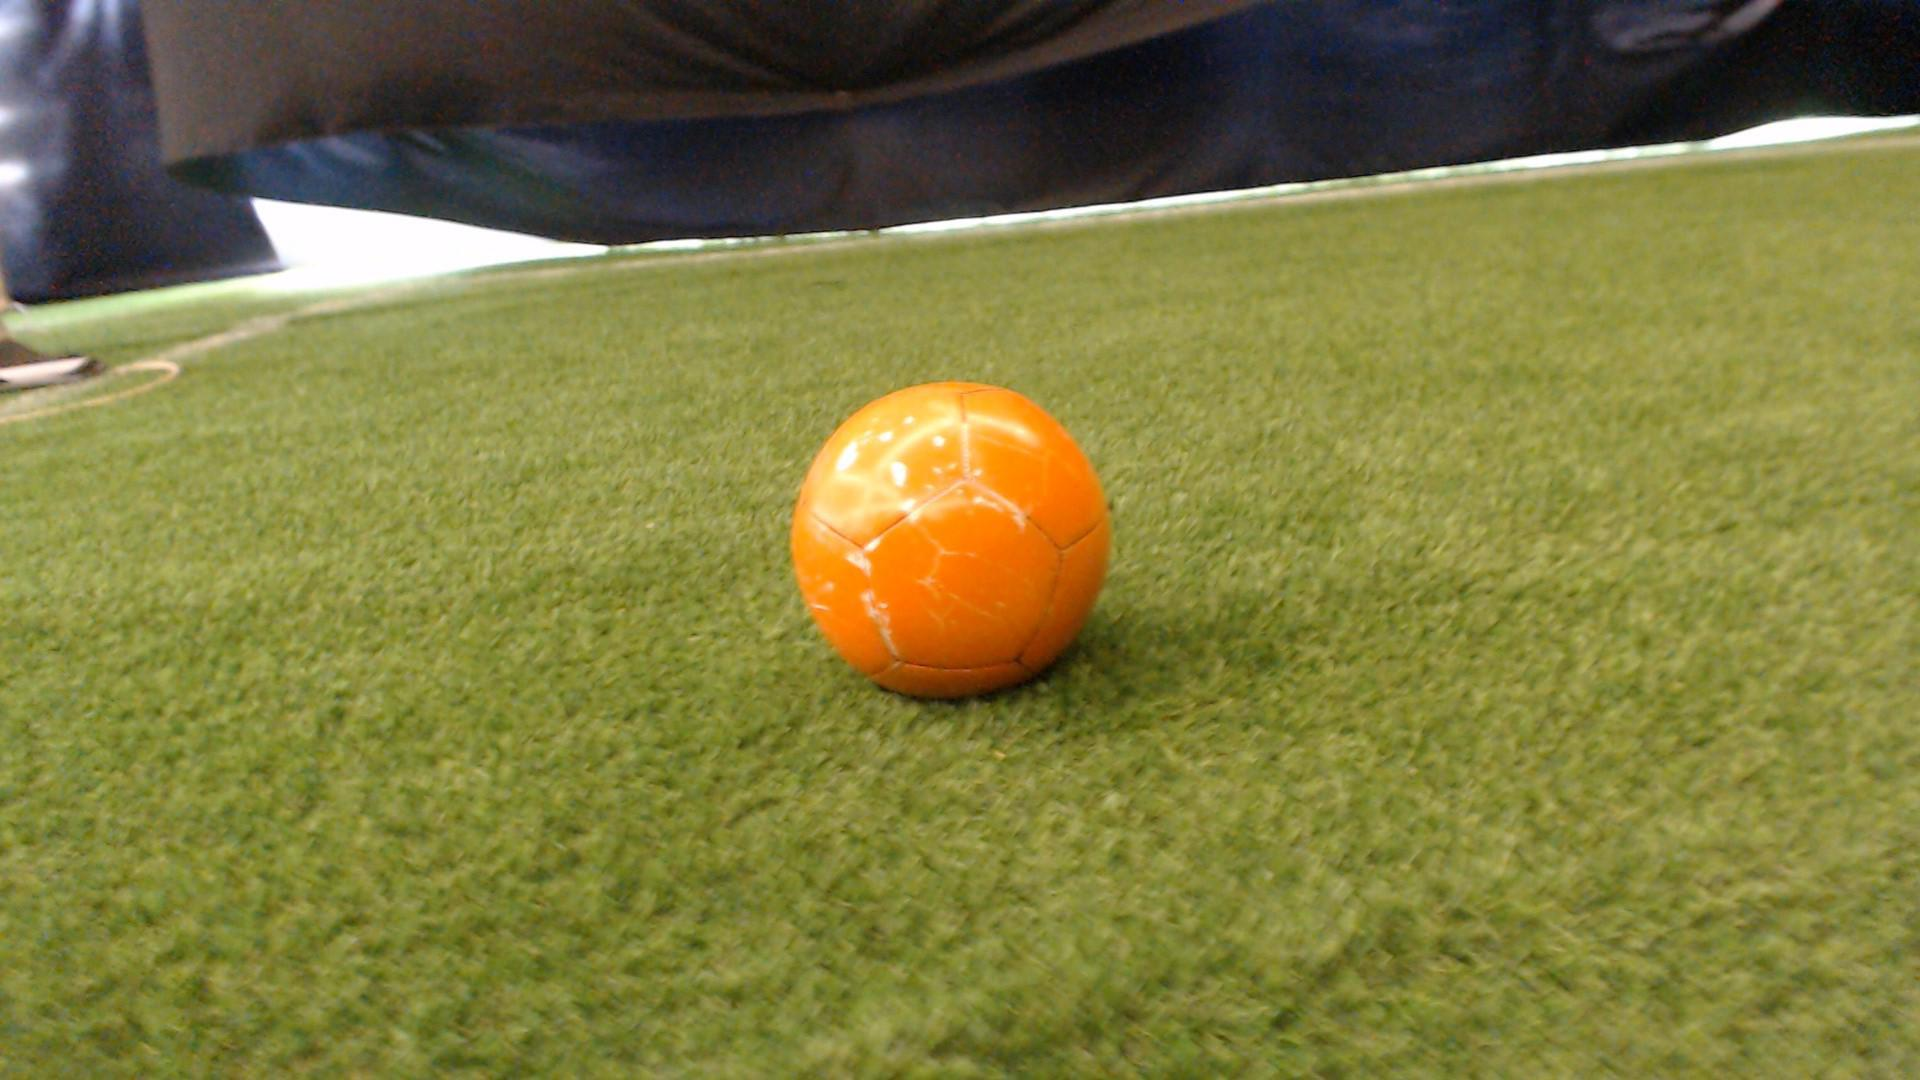bola: (765, 352, 1150, 715)
